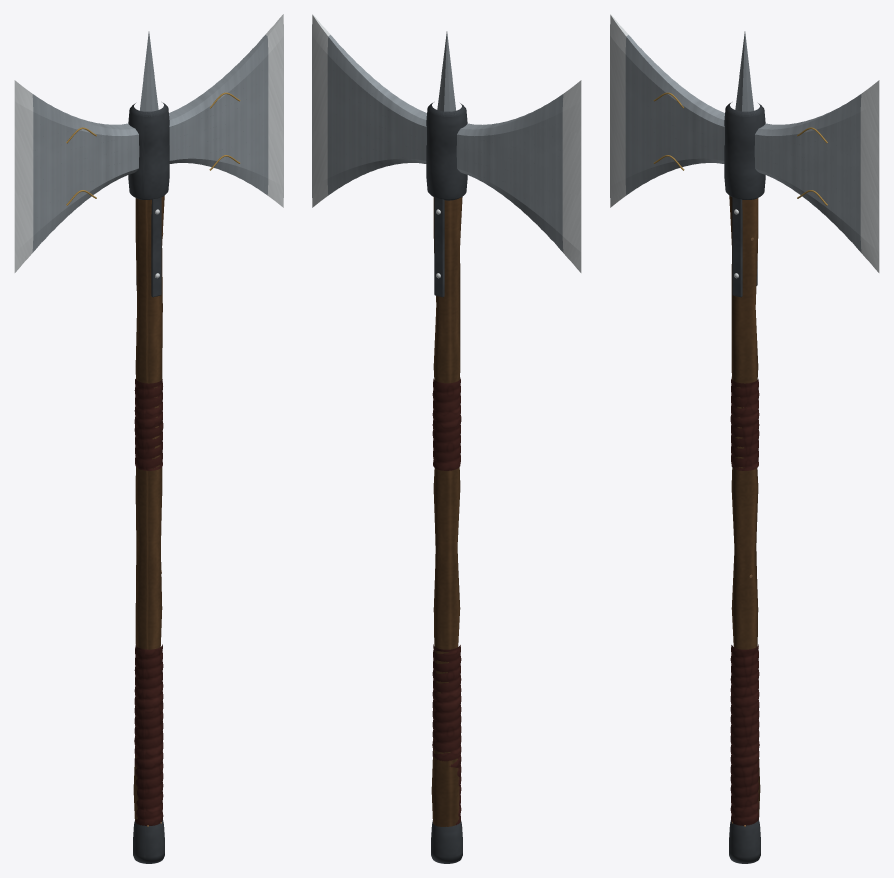
Rendered from great-axe.glb.
The picture shows the model from 3 angles, left to right: view 1: azimuth 30°, elevation 25°; view 2: azimuth 150°, elevation 25°; view 3: azimuth 330°, elevation 25°; orthographic projection.
Visible parts, largest first — view 1: steel / forged blade steel, wood / oiled hardwood, leather / oiled leather wrap, edge / honed bright bevel, darksteel / oil-blackened fittings; view 2: steel / forged blade steel, wood / oiled hardwood, edge / honed bright bevel, leather / oiled leather wrap, darksteel / oil-blackened fittings; view 3: steel / forged blade steel, wood / oiled hardwood, leather / oiled leather wrap, edge / honed bright bevel, darksteel / oil-blackened fittings.
Boxes of the visible parts, x1,y1,x2,y2 form: steel / forged blade steel: (32,31,268,252); wood / oiled hardwood: (133,196,164,819); leather / oiled leather wrap: (134,379,163,825); edge / honed bright bevel: (14,14,283,278); darksteel / oil-blackened fittings: (128,102,169,863); steel / forged blade steel: (327,31,563,252); wood / oiled hardwood: (431,197,462,826); edge / honed bright bevel: (312,14,581,278); leather / oiled leather wrap: (432,377,461,825); darksteel / oil-blackened fittings: (426,102,467,863); steel / forged blade steel: (625,31,861,252); wood / oiled hardwood: (729,196,760,819); leather / oiled leather wrap: (730,377,759,825); edge / honed bright bevel: (610,14,879,278); darksteel / oil-blackened fittings: (724,102,765,863).
Bounding box in the file's own units: 0.4507 × 1.32 × 0.0558.
8 materials, 6 textured.
